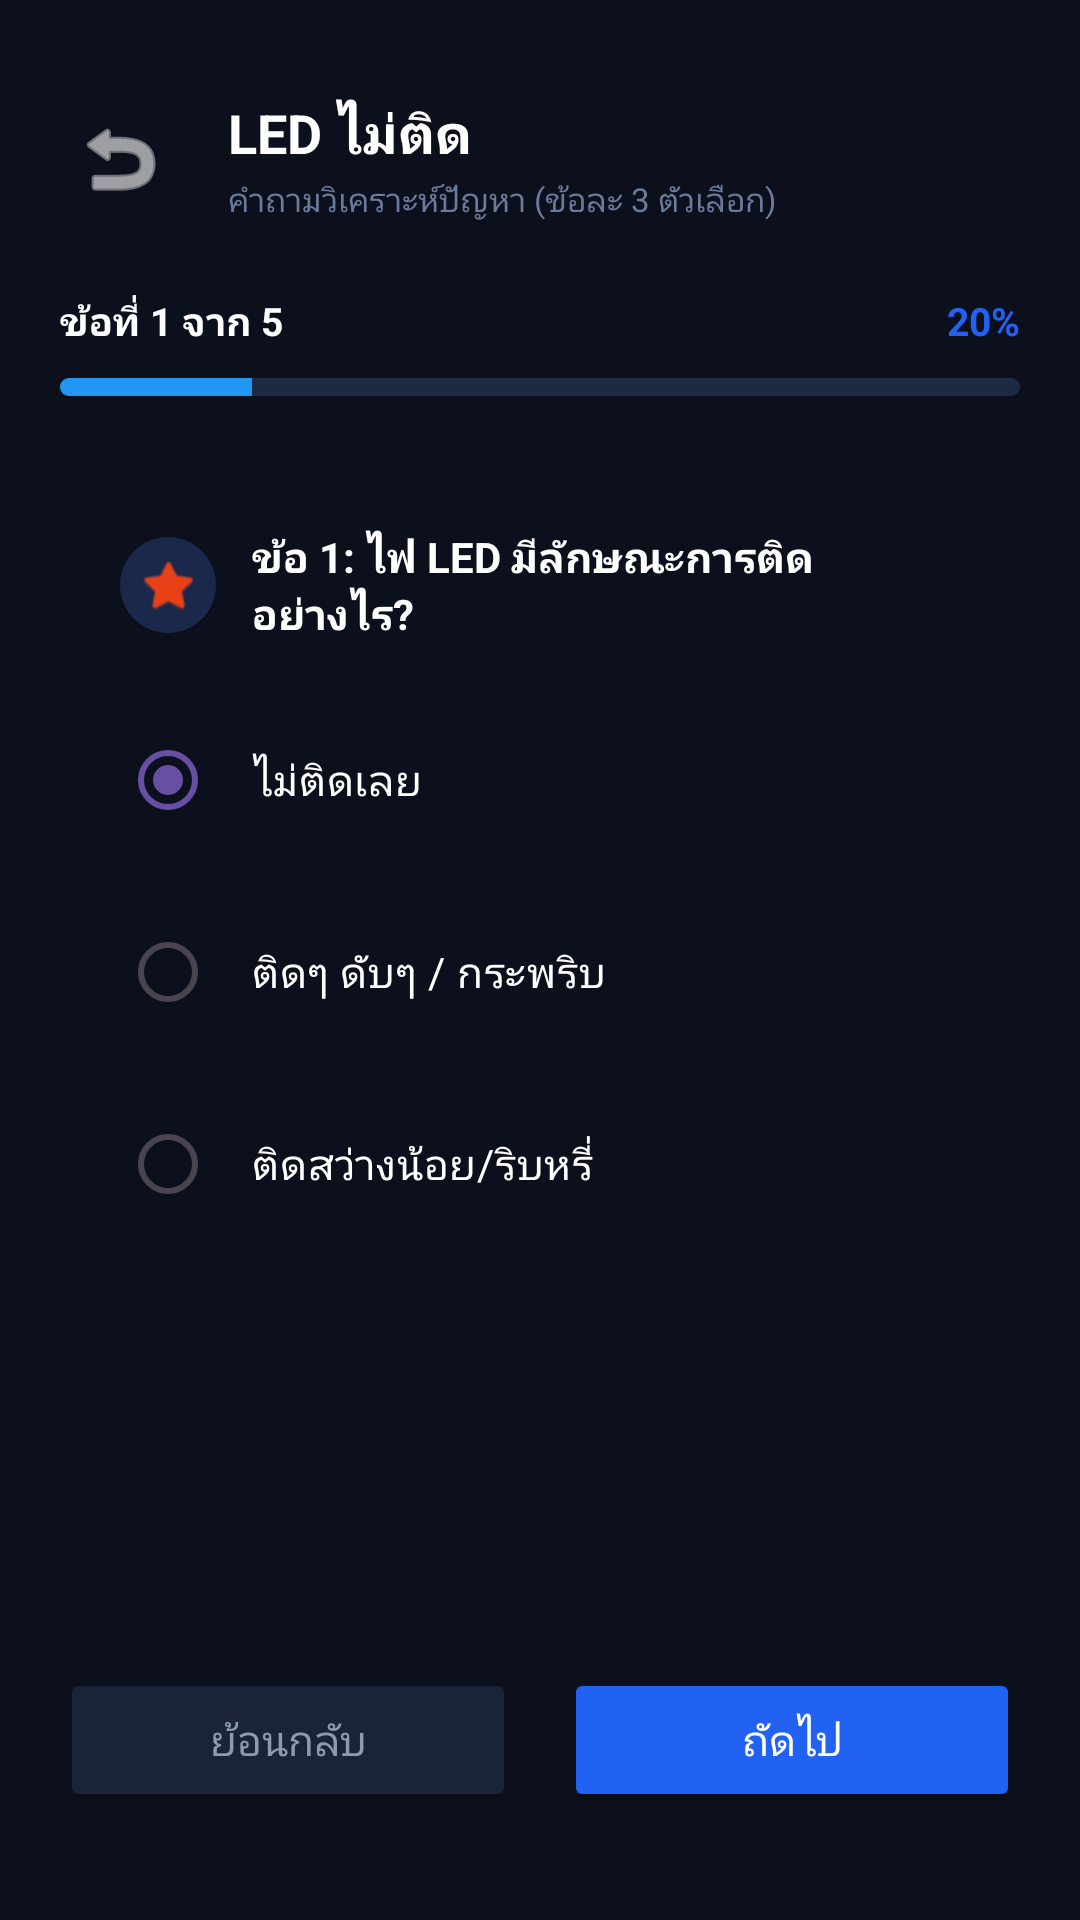

Screen size 1080 x 1920. Icon name, then its center in pixels as [x,y]:
revert: [121,159]
star on: [168,585]
